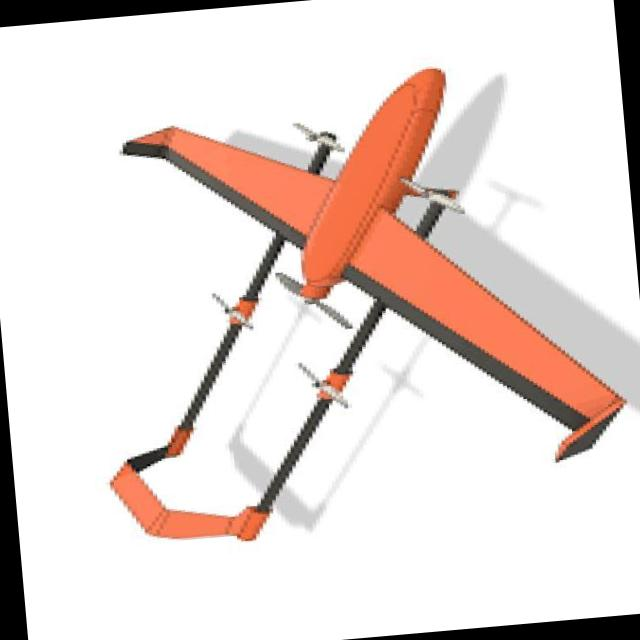UAV: (63, 47, 592, 567)
